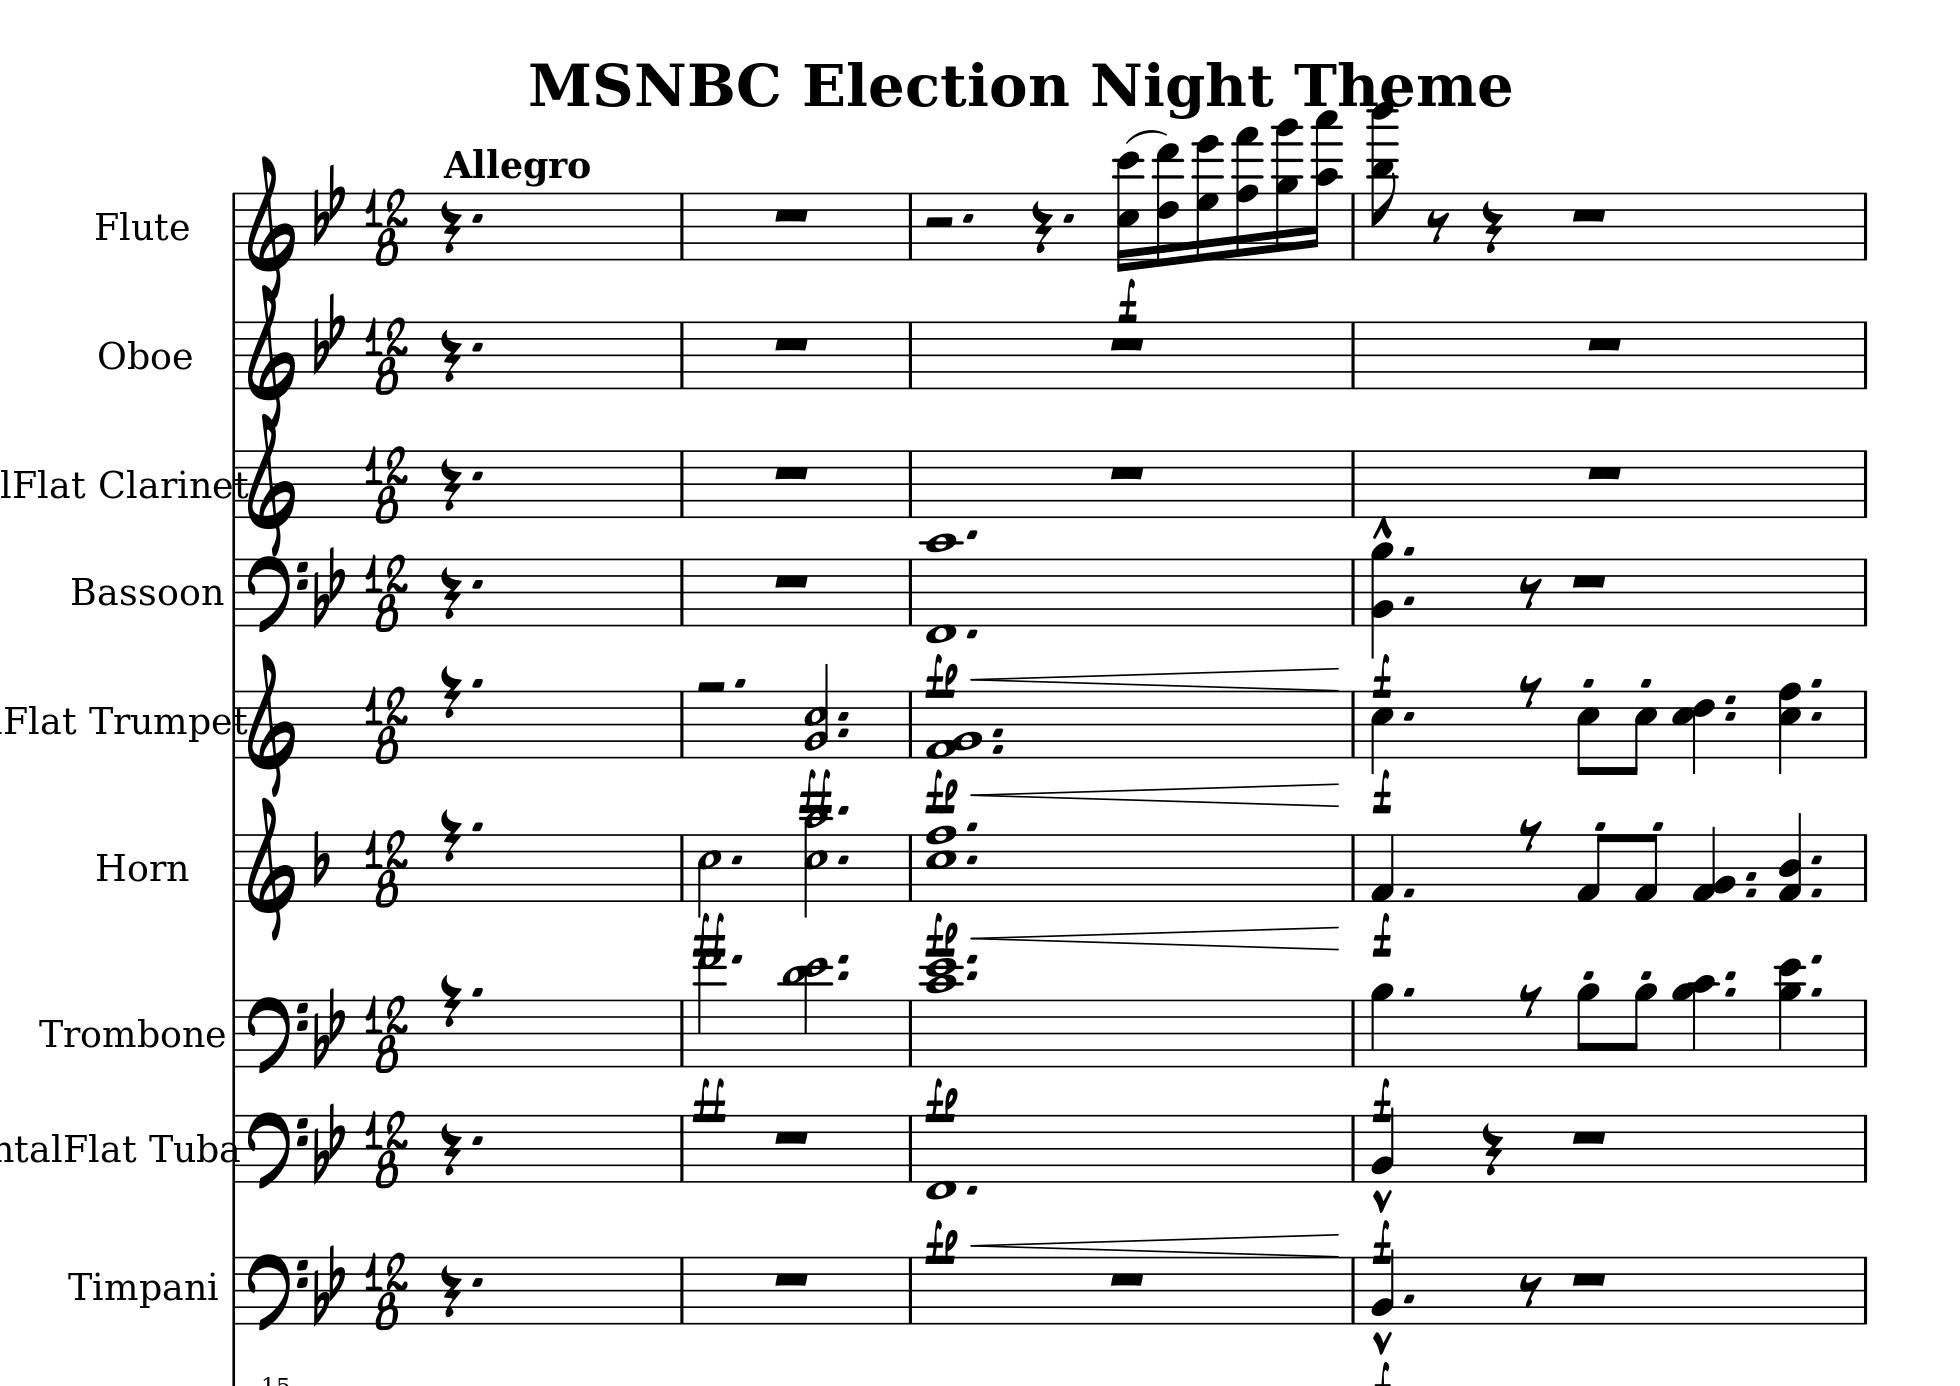1: (363, 315, 382, 357), (361, 829, 382, 868), (361, 993, 381, 1035), (363, 1249, 382, 1291), (361, 553, 381, 594), (363, 187, 382, 226), (363, 445, 382, 484), (363, 685, 382, 724)
16_10_17: (1311, 109, 1342, 262)
16_5_12: (1113, 148, 1143, 274)
16_6_13: (1153, 141, 1183, 268)
16_7_14: (1191, 133, 1224, 262)
16_8_15: (1231, 124, 1263, 262)
16_9_16: (1270, 117, 1303, 262)
1_-1: (922, 1113, 958, 1200)
1_-1_10: (921, 529, 967, 646)
1_10_12: (918, 958, 964, 1066)
1_1_2: (924, 691, 981, 760)
1_2_5: (801, 661, 834, 760)
1_5_8: (924, 823, 957, 903)
2: (382, 313, 409, 355), (382, 826, 409, 868), (384, 184, 409, 228), (382, 553, 409, 594), (382, 684, 409, 724), (382, 993, 409, 1033), (382, 442, 408, 484), (384, 1108, 409, 1150), (384, 1249, 409, 1291)
2_11_12: (778, 958, 835, 1068)
2_13: (694, 952, 727, 1069)
2_5: (696, 832, 723, 913)
4_1: (1371, 832, 1396, 903)
4_1_2: (1692, 823, 1737, 903)
4_1_4: (1777, 810, 1804, 901)
4_2: (1371, 1252, 1396, 1326), (1371, 1111, 1395, 1183)
4_2_9: (1371, 540, 1396, 655)
4_5_6: (1672, 688, 1719, 775)
4_5_8: (1777, 681, 1803, 777)
4_9: (1369, 981, 1395, 1069)
4_9_10: (1674, 973, 1722, 1068)
4_9_12: (1774, 955, 1806, 1066)
8: (373, 1147, 402, 1189), (373, 1288, 402, 1330), (373, 354, 400, 397), (373, 867, 400, 909), (373, 226, 400, 267), (373, 483, 400, 523), (373, 592, 400, 633), (373, 724, 400, 765), (373, 1033, 400, 1072)
8_1: (1575, 831, 1608, 904), (1632, 832, 1659, 904)
8_11_18: (1368, 102, 1404, 259)
8_5: (1626, 688, 1659, 778), (1575, 688, 1602, 777)
8_9: (1626, 982, 1657, 1069), (1575, 982, 1600, 1069)
B_F: (312, 160, 346, 246), (312, 291, 346, 373), (310, 546, 345, 628), (312, 1102, 345, 1186), (312, 1243, 345, 1326), (313, 985, 345, 1069), (363, 1108, 381, 1152)
Bass: (69, 571, 160, 607)
Cl: (99, 463, 135, 501)
Fclef: (246, 1110, 309, 1191), (246, 1251, 309, 1330), (247, 994, 309, 1075), (247, 555, 309, 634)
Fl: (94, 208, 130, 247), (1, 702, 39, 738)
Flat: (310, 826, 331, 888)
Gclef: (246, 153, 295, 304), (249, 652, 297, 796), (247, 796, 295, 940)
Hn: (91, 844, 184, 886)
Marcato_above: (1371, 1186, 1395, 1213), (1371, 516, 1395, 541), (1371, 1329, 1395, 1354)
Ob: (96, 337, 148, 370)
Rests1: (1584, 331, 1626, 355), (1584, 460, 1626, 484), (769, 460, 813, 483), (769, 331, 811, 354), (1105, 460, 1149, 481), (1569, 570, 1612, 591), (769, 1126, 813, 1147), (771, 568, 811, 591), (1569, 204, 1611, 225), (1569, 1126, 1611, 1147), (769, 1267, 811, 1288), (769, 205, 813, 225), (1105, 1269, 1149, 1288), (1569, 1269, 1611, 1288), (1107, 334, 1149, 352)
Rests2: (921, 213, 957, 232), (694, 676, 727, 696)
Rests4: (438, 1261, 462, 1320), (1480, 198, 1504, 255), (438, 327, 462, 384), (438, 807, 462, 864), (438, 972, 462, 1029), (438, 1120, 462, 1177), (1480, 1120, 1504, 1177), (1030, 199, 1054, 255), (439, 198, 462, 255), (439, 562, 462, 619), (439, 456, 462, 511), (439, 664, 462, 720)
Rests8: (1425, 208, 1452, 244), (1518, 574, 1545, 610), (1518, 1273, 1545, 1308), (1518, 673, 1543, 708), (1518, 982, 1543, 1017), (1518, 817, 1543, 850)
Single_barline: (1854, 192, 1873, 259), (1857, 558, 1875, 625), (1857, 690, 1875, 757), (1857, 999, 1875, 1066), (901, 193, 919, 258), (901, 322, 919, 387), (1344, 322, 1362, 387), (1344, 451, 1362, 514), (1857, 321, 1873, 388), (1857, 450, 1873, 517), (1857, 832, 1873, 900), (1857, 1114, 1873, 1182), (1857, 1255, 1873, 1323), (673, 1116, 690, 1180), (901, 1116, 918, 1180), (901, 559, 918, 622), (673, 835, 690, 898), (673, 1000, 690, 1063), (229, 450, 244, 519), (226, 321, 241, 388), (229, 690, 244, 757), (673, 193, 688, 259), (673, 322, 688, 388), (673, 559, 688, 625), (673, 691, 688, 757), (226, 1000, 241, 1066), (228, 1114, 243, 1180), (1345, 1114, 1360, 1180), (673, 451, 688, 516), (903, 451, 918, 516), (226, 559, 241, 624), (1347, 559, 1362, 624), (903, 691, 918, 756), (673, 1257, 688, 1321), (901, 1000, 916, 1063), (1347, 1000, 1362, 1063), (903, 1258, 918, 1321), (226, 190, 240, 259), (228, 834, 241, 901), (1347, 193, 1360, 258), (1347, 834, 1360, 898), (228, 1257, 241, 1321), (1347, 1257, 1360, 1321), (1347, 691, 1360, 754), (903, 835, 916, 898)
Slur: (967, 922, 1341, 954), (967, 780, 1341, 808), (969, 667, 1341, 691), (1125, 127, 1168, 145)
TimeSig: (366, 828, 406, 909), (367, 1108, 408, 1189), (367, 1249, 408, 1330), (366, 685, 406, 765), (366, 993, 406, 1072), (367, 186, 406, 267), (369, 315, 408, 396), (367, 444, 406, 525), (367, 552, 406, 631)
dot: (964, 526, 981, 544), (1809, 951, 1825, 969), (1401, 541, 1417, 558), (964, 625, 981, 642), (835, 951, 852, 967), (1807, 675, 1824, 690), (1722, 691, 1738, 706), (1401, 708, 1417, 723), (469, 817, 484, 834), (729, 951, 745, 966), (964, 951, 979, 967), (835, 967, 852, 982), (964, 967, 981, 982), (1722, 967, 1738, 982), (1807, 982, 1824, 997), (469, 984, 484, 1000), (966, 1182, 981, 1198), (469, 675, 484, 690), (1809, 708, 1824, 723), (835, 802, 850, 817), (469, 1132, 484, 1147), (469, 1273, 484, 1288), (960, 210, 976, 223), (469, 576, 486, 589), (1401, 885, 1417, 898), (1401, 984, 1417, 997), (1722, 984, 1738, 997), (469, 211, 484, 225), (1062, 211, 1077, 225), (469, 339, 484, 352), (469, 468, 484, 481), (990, 726, 1005, 739), (964, 819, 979, 832), (729, 852, 744, 865), (835, 852, 850, 865), (1744, 868, 1759, 882), (1744, 885, 1759, 898), (1809, 885, 1824, 898), (964, 852, 978, 865), (1810, 852, 1824, 865), (835, 709, 850, 721), (1723, 709, 1738, 721), (835, 726, 850, 738), (990, 742, 1005, 754), (1401, 1291, 1416, 1303)
f: (1116, 277, 1140, 324), (1371, 910, 1393, 958), (1371, 652, 1393, 699), (1371, 769, 1393, 816), (1371, 1219, 1393, 1261), (1371, 1077, 1393, 1117)
ff: (798, 765, 832, 823), (694, 909, 726, 949)
fp: (922, 652, 958, 697), (922, 769, 958, 814), (922, 910, 958, 955), (924, 1219, 958, 1264)
sf: (922, 1077, 960, 1122), (691, 1075, 727, 1122)
